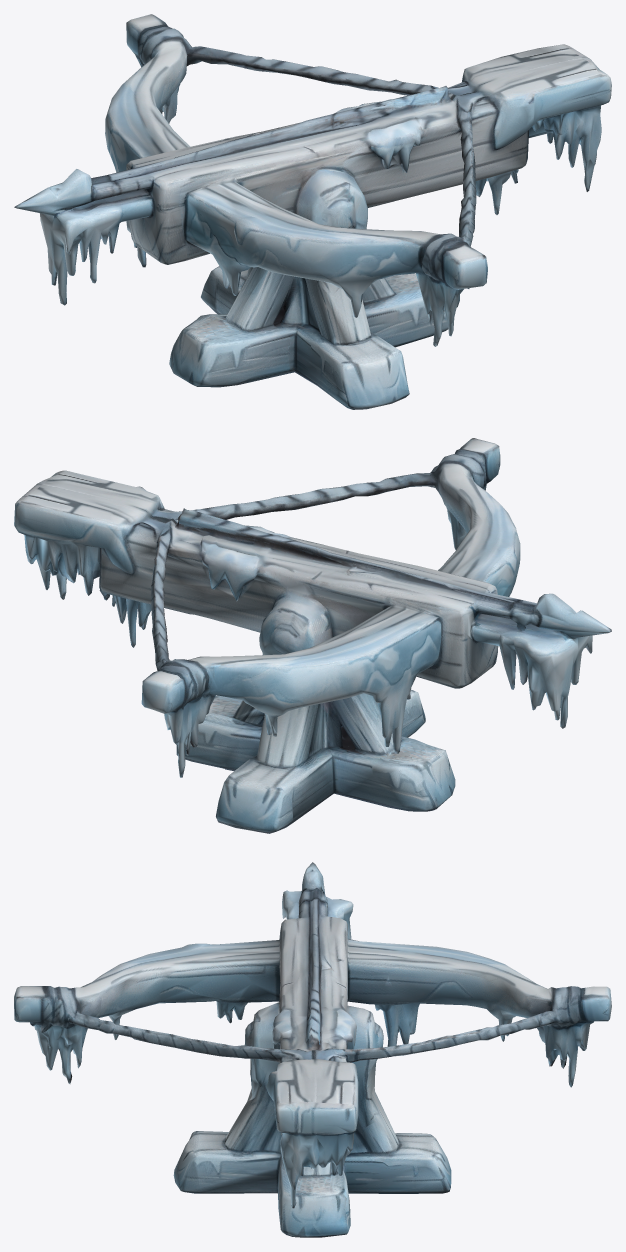
The model's file is BalistaCanon-snow.fbx.
3 views of the same model, one above another, from view 1: azimuth 30°, elevation 25°; view 2: azimuth 150°, elevation 25°; view 3: azimuth 270°, elevation 25° (orthographic). The views are drawn at different scales.
Visible parts, largest first — view 1: Mesh_0; view 2: Mesh_0; view 3: Mesh_0.
Part boxes in pixels (<box>): Mesh_0: <box>14,14,611,409</box>; Mesh_0: <box>14,438,611,833</box>; Mesh_0: <box>14,862,611,1237</box>.
Bounding box in the file's own units: 200 × 78.51 × 200.
1 material, 1 textured.
